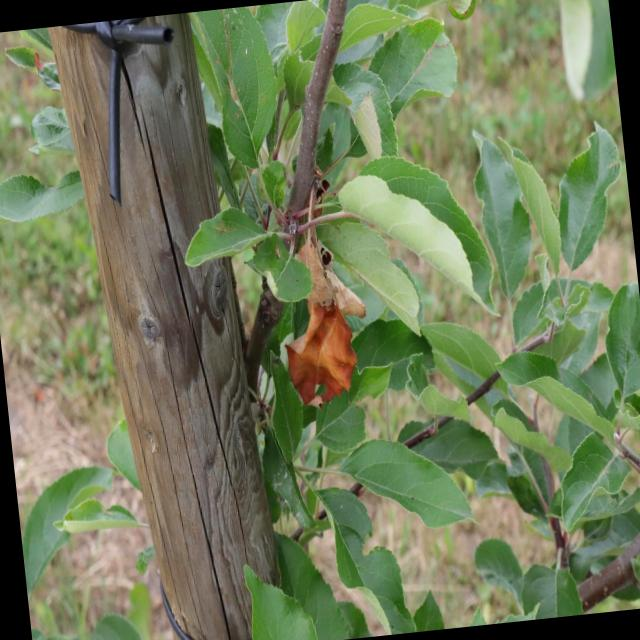-FireBlight-: (286, 200, 364, 398)
